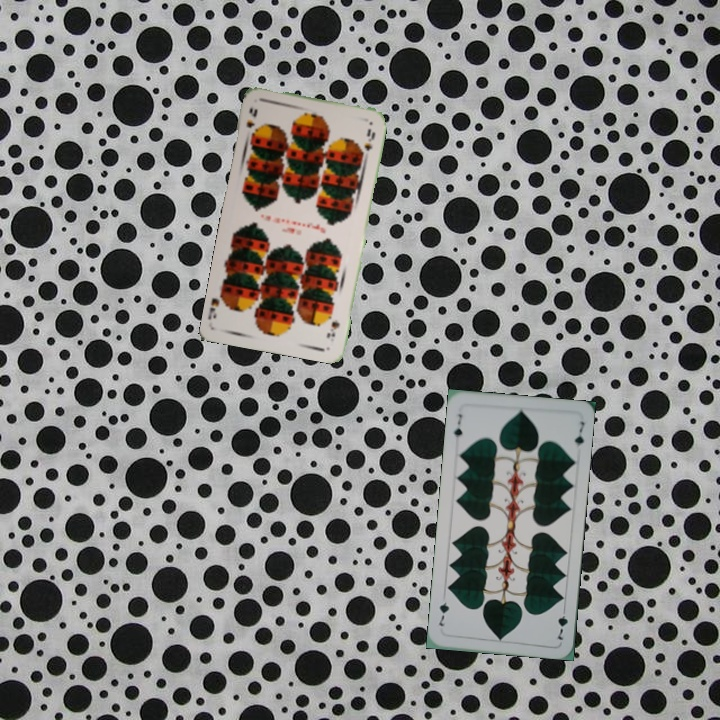G7: (552, 603, 570, 642), (450, 410, 465, 440)
S9: (242, 103, 260, 141), (324, 317, 342, 340)
